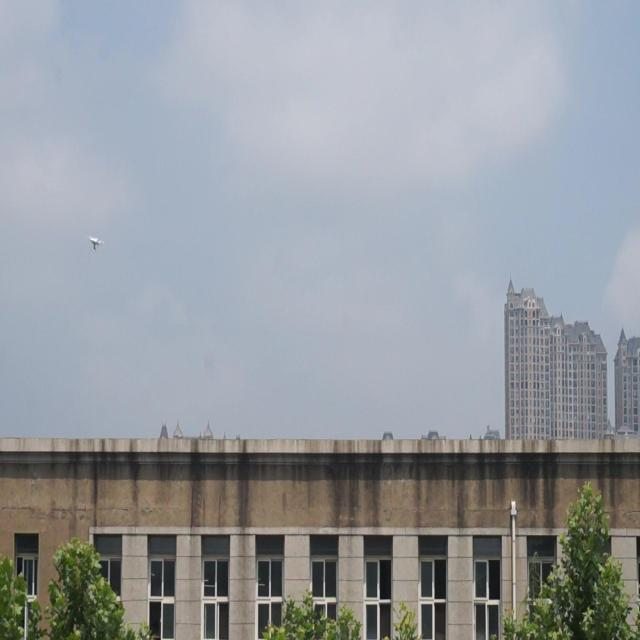drone: (87, 233, 104, 253)
